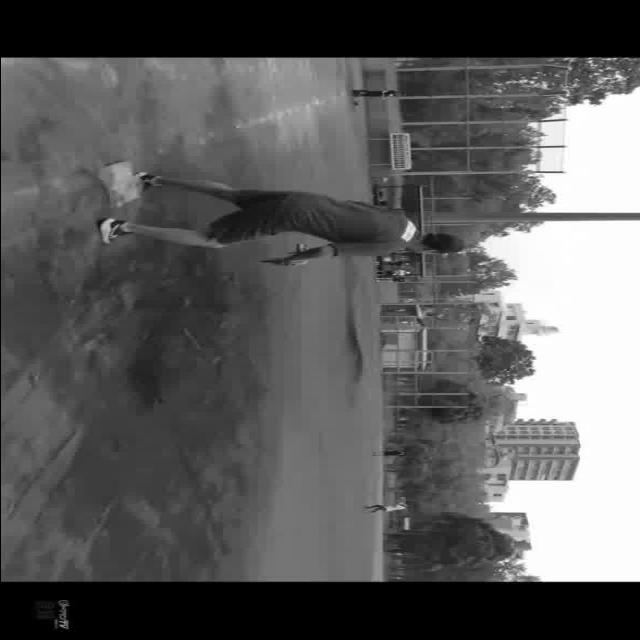base: (102, 159, 140, 205)
baseball_glove: (263, 245, 311, 269)
shoe: (95, 218, 126, 244), (136, 173, 158, 196)
